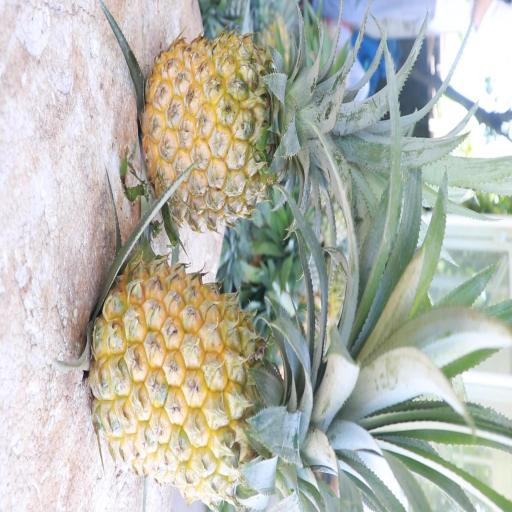Pineapple - v8 v1: (84, 249, 402, 505), (136, 24, 372, 237)
